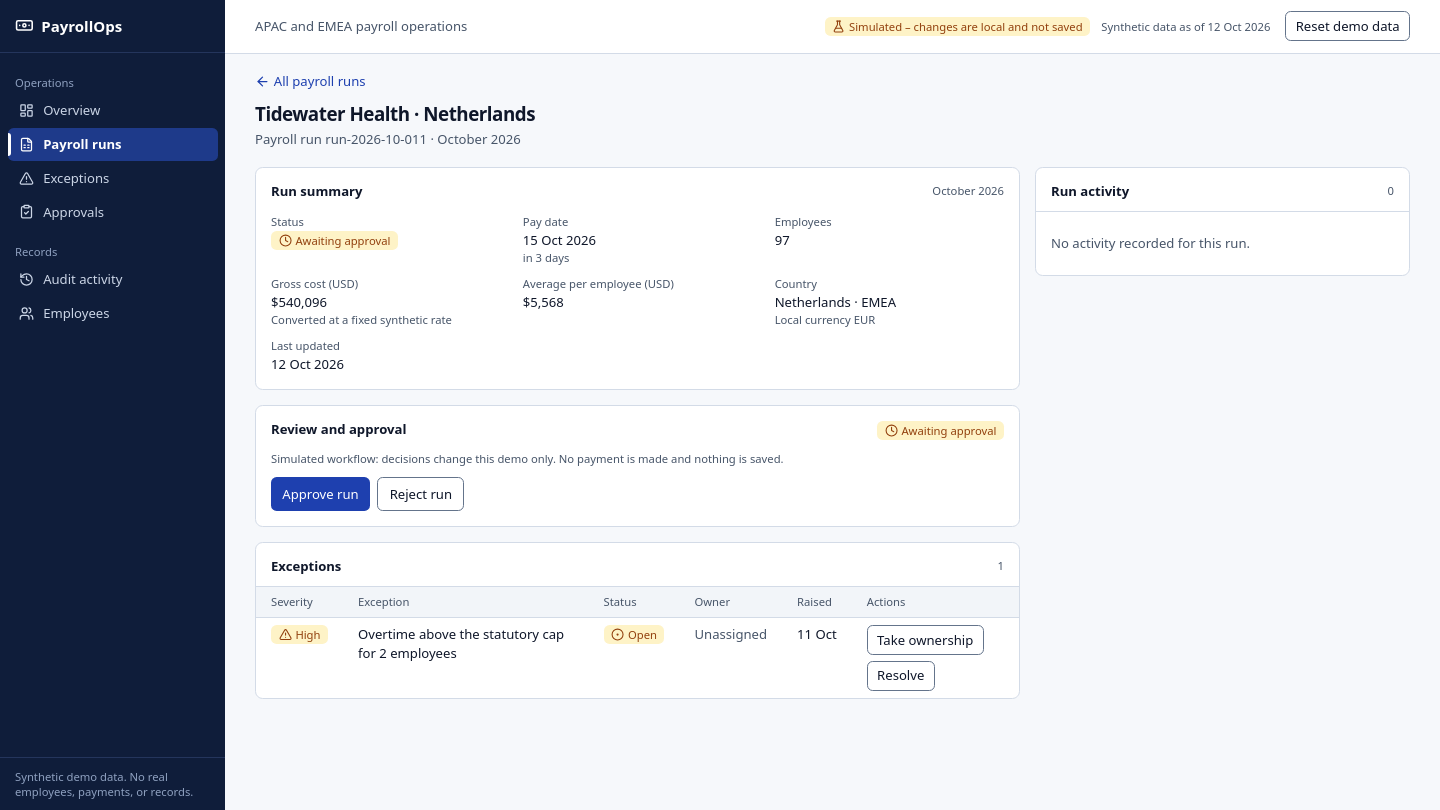
Test: Audit activity page › records what happens in the workflow, with reasons, and Reset clears it
Click the button "Reject run" at (421, 494), box [377, 477, 464, 511]
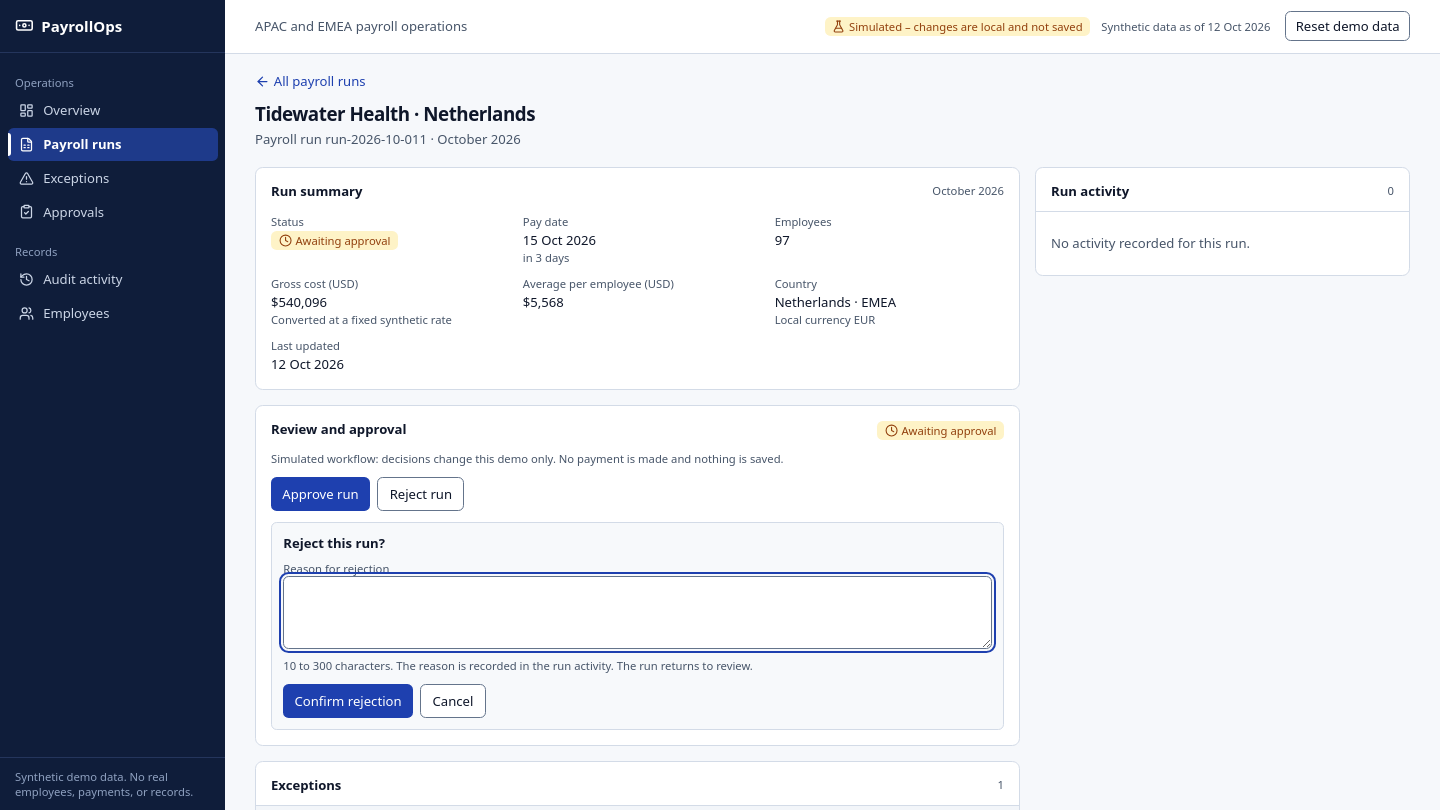
Type "Allowances are not confirmed." into the text box labelled "Reason for rejection" at (638, 612), box [283, 576, 992, 649]
Click the button "Confirm rejection" at (348, 701), box [283, 684, 413, 718]
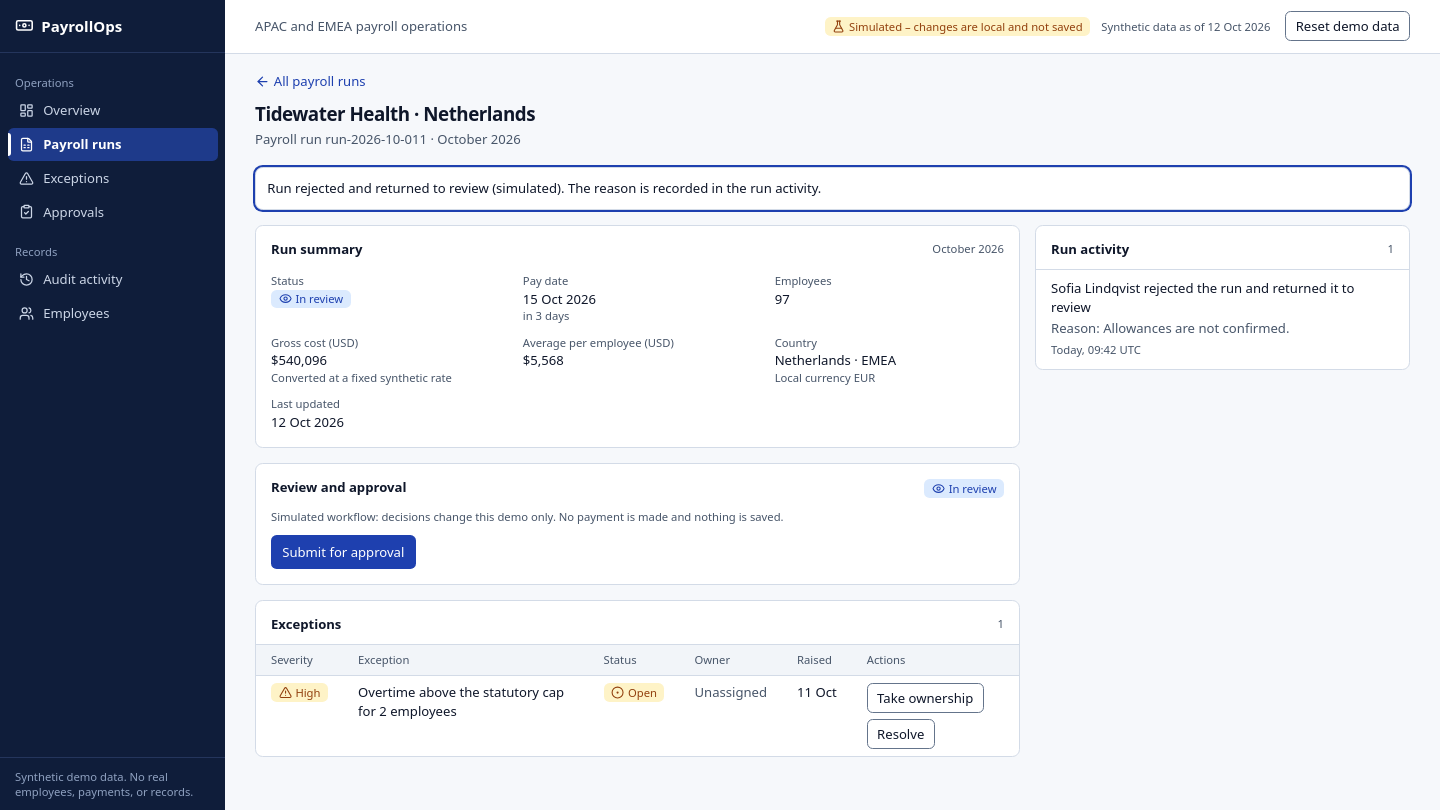
Click the button "Submit for approval" at (343, 552), box [271, 535, 416, 569]
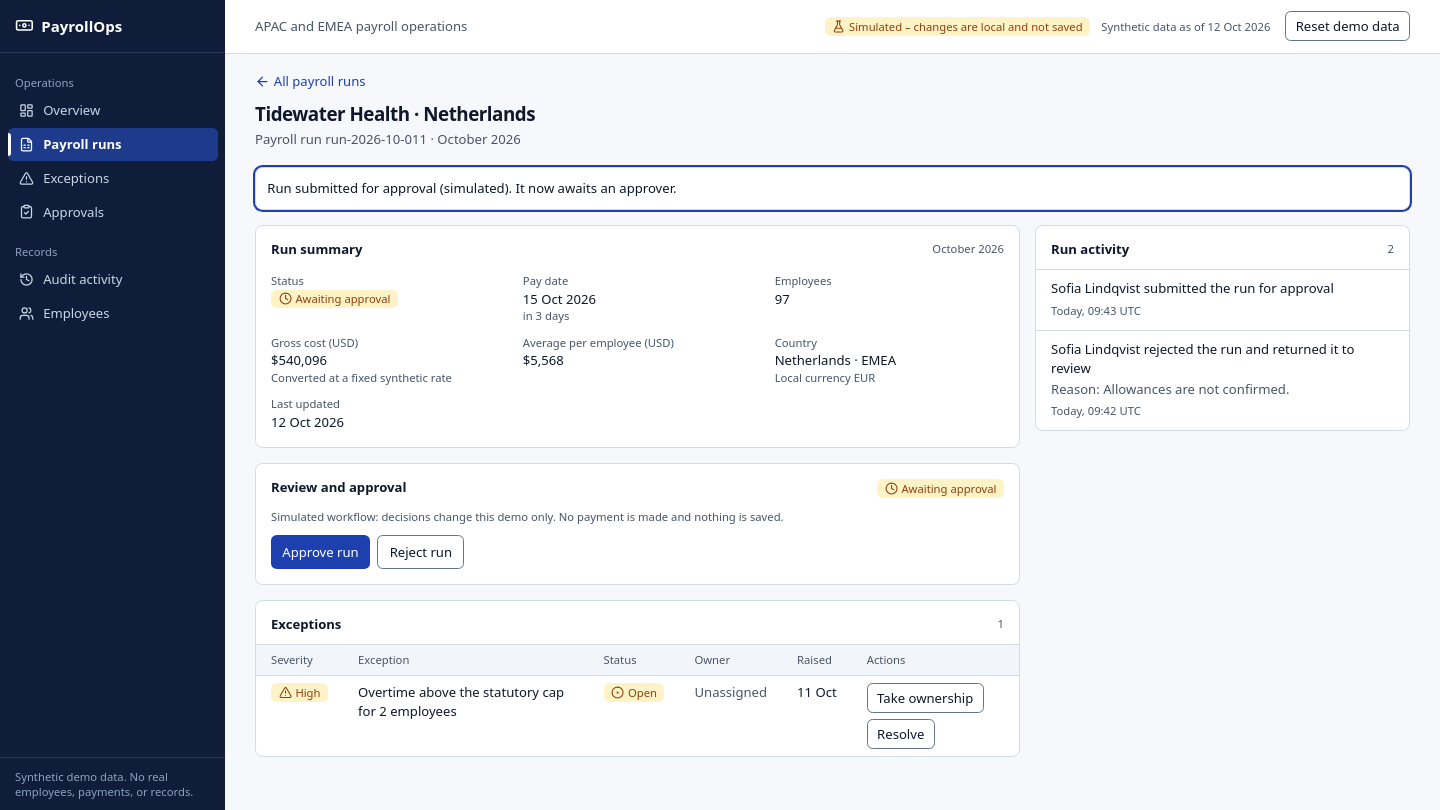
Click the link "Audit activity" at (71, 279), box [19, 270, 122, 288]
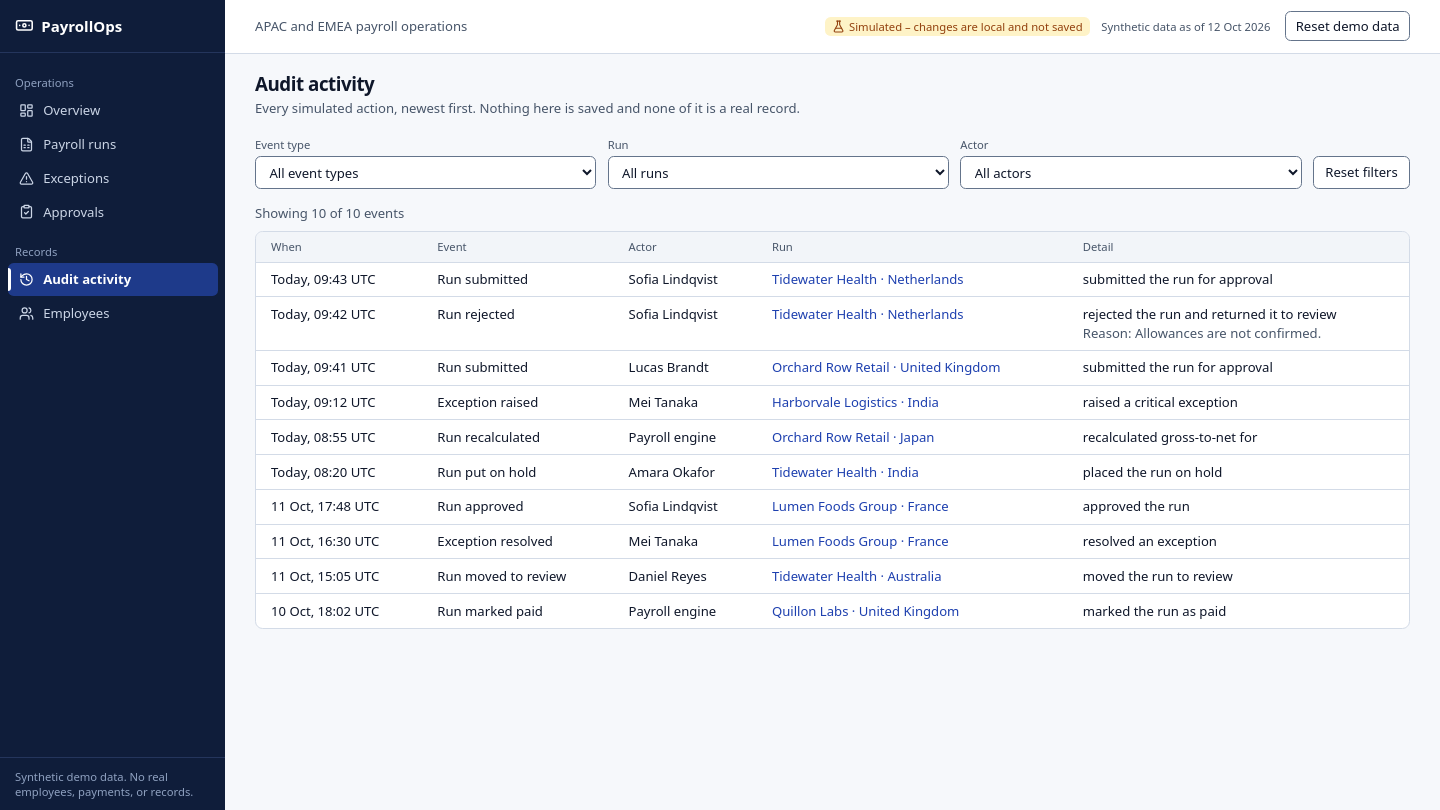
Result: the text "Today, 09:43 UTC" is shown at [271, 270, 376, 288]
Result: the text "Showing 10 of 10 events" is shown at [255, 204, 404, 222]
Result: the column heading "Run submitted" next to "Today, 09:43 UTC" is shown at [437, 270, 528, 288]
The run that now appears in the trail can be used as a filter.
Select "Tidewater Health · Netherlands" in the dropdown labelled "Run" at (778, 173), box [608, 156, 949, 190]
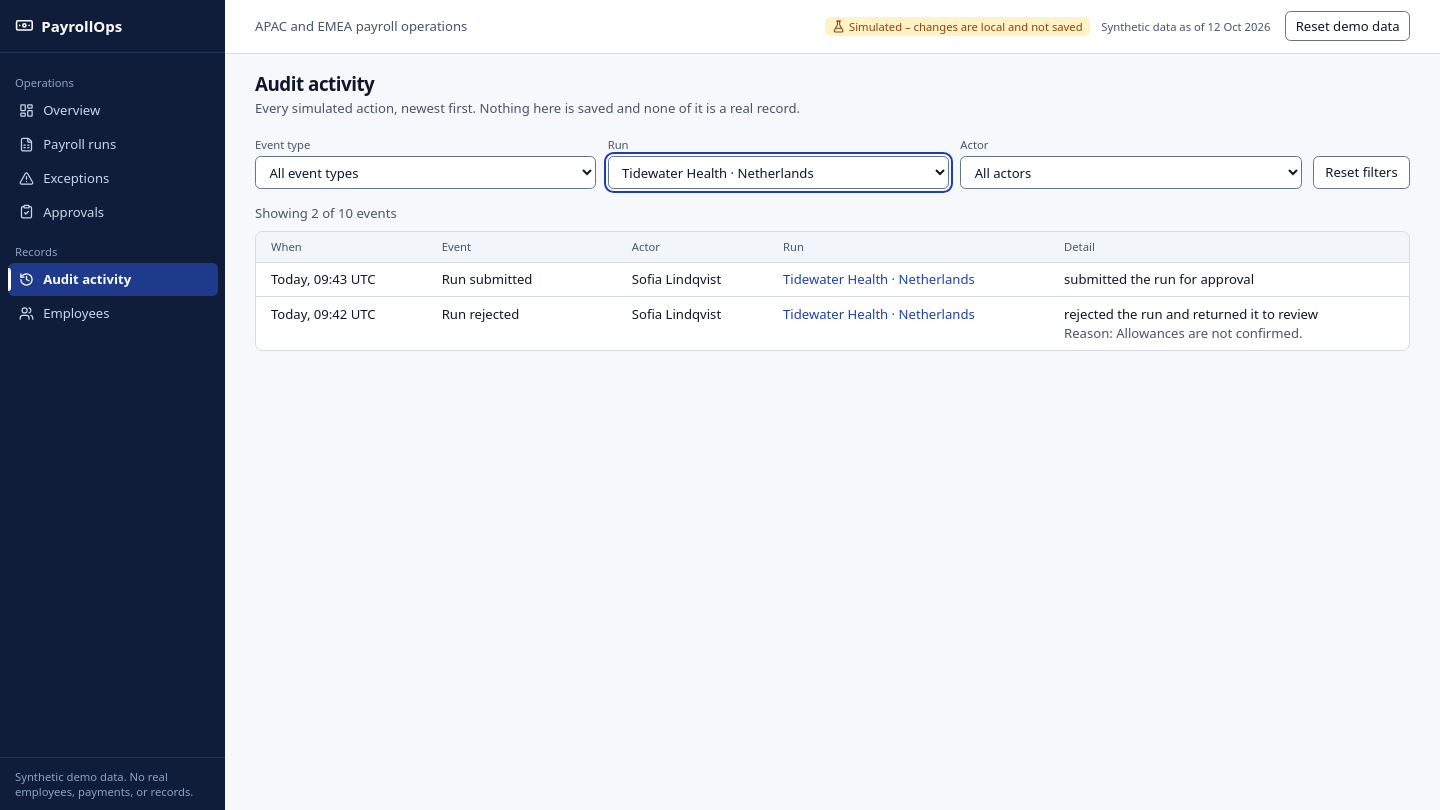
Click the button "Reset demo data" at (1348, 26), box [1285, 11, 1410, 41]
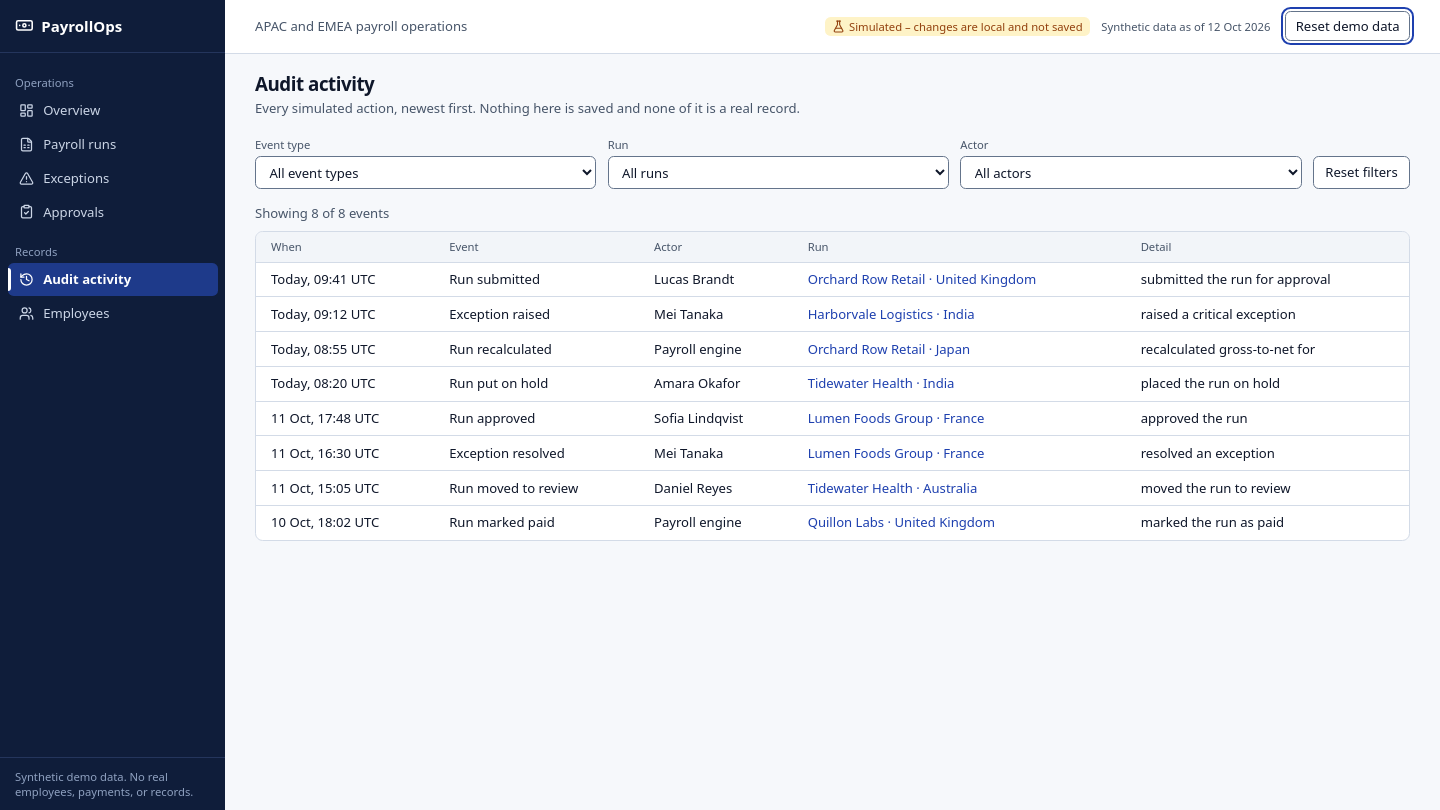
Result: the text "Showing 8 of 8 events" is shown at [255, 204, 389, 222]
